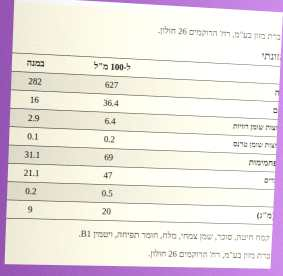carbs: (103, 151, 114, 163)
energy: (104, 79, 120, 91)
fat: (102, 97, 120, 109)
protein: (100, 187, 114, 199)
